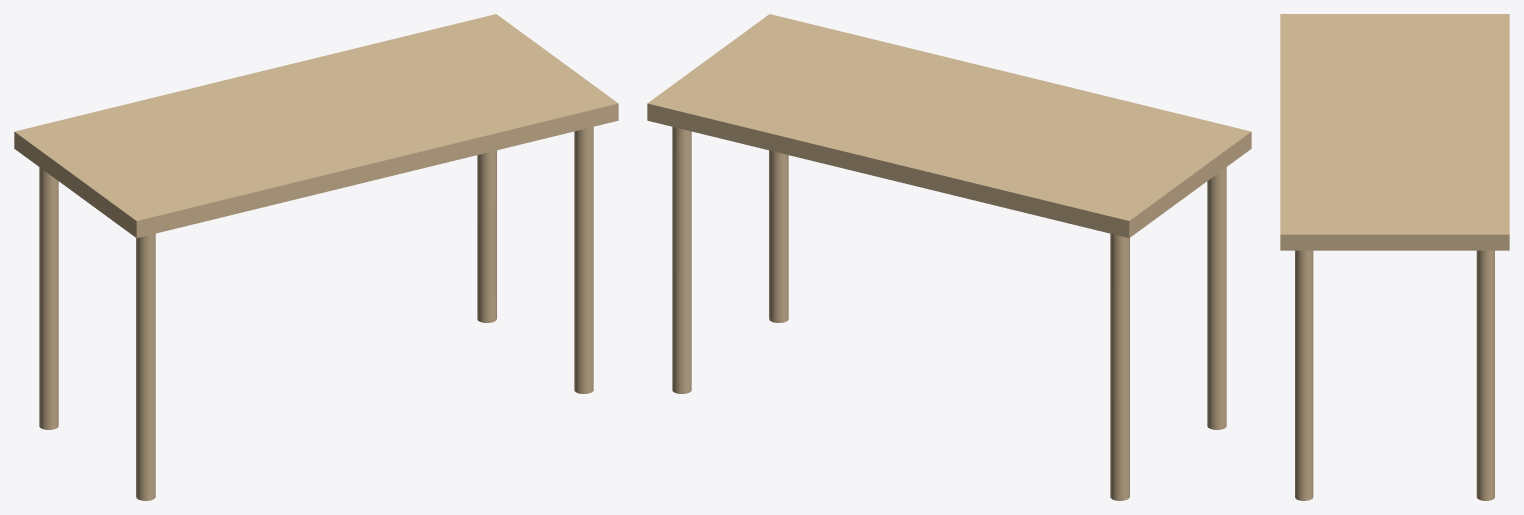
File: ikea-alex-60483341-g2-proxy.glb
3 views of the same model, side by side, from view 1: azimuth 30°, elevation 25°; view 2: azimuth 150°, elevation 25°; view 3: azimuth 270°, elevation 25° (orthographic). The views are drawn at different scales.
Visible parts, largest first — view 1: proxy_body, leg (×4); view 2: proxy_body, leg (×4); view 3: proxy_body, leg (×2).
Boxes of the visible parts, x1=… form: proxy_body: x1=14, y1=14, x2=618, y2=237; leg (×4): x1=39, y1=127, x2=593, y2=500; proxy_body: x1=647, y1=14, x2=1251, y2=237; leg (×4): x1=672, y1=127, x2=1226, y2=500; proxy_body: x1=1280, y1=14, x2=1509, y2=250; leg (×2): x1=1295, y1=250, x2=1494, y2=500.
Bounding box in the file's own units: 1.32 × 0.76 × 0.58.
